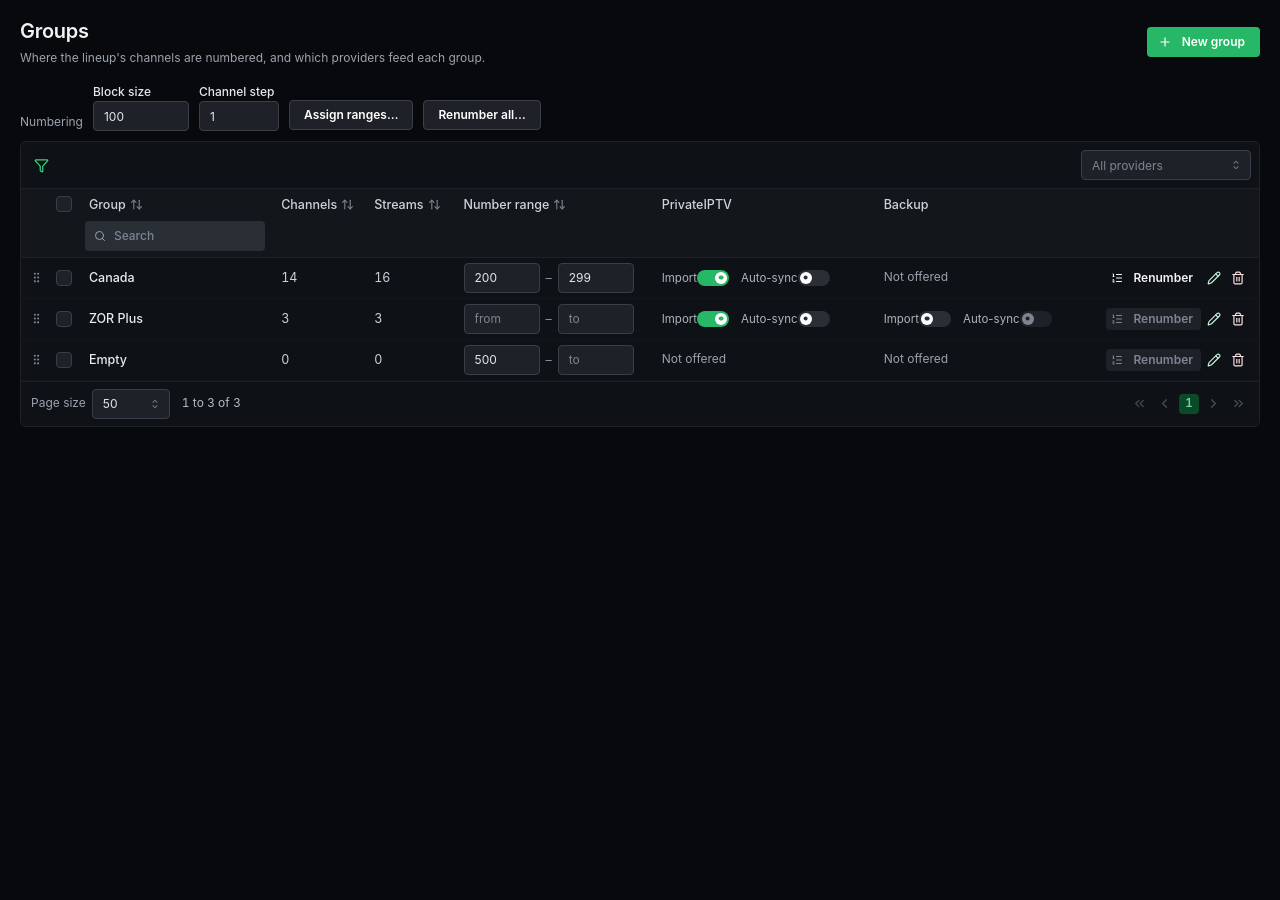
Scenario: the editor › refuses an end below the start before asking the server
Click the button named "Edit Canada". click: click(1214, 278)
box: [1203, 267, 1225, 289]
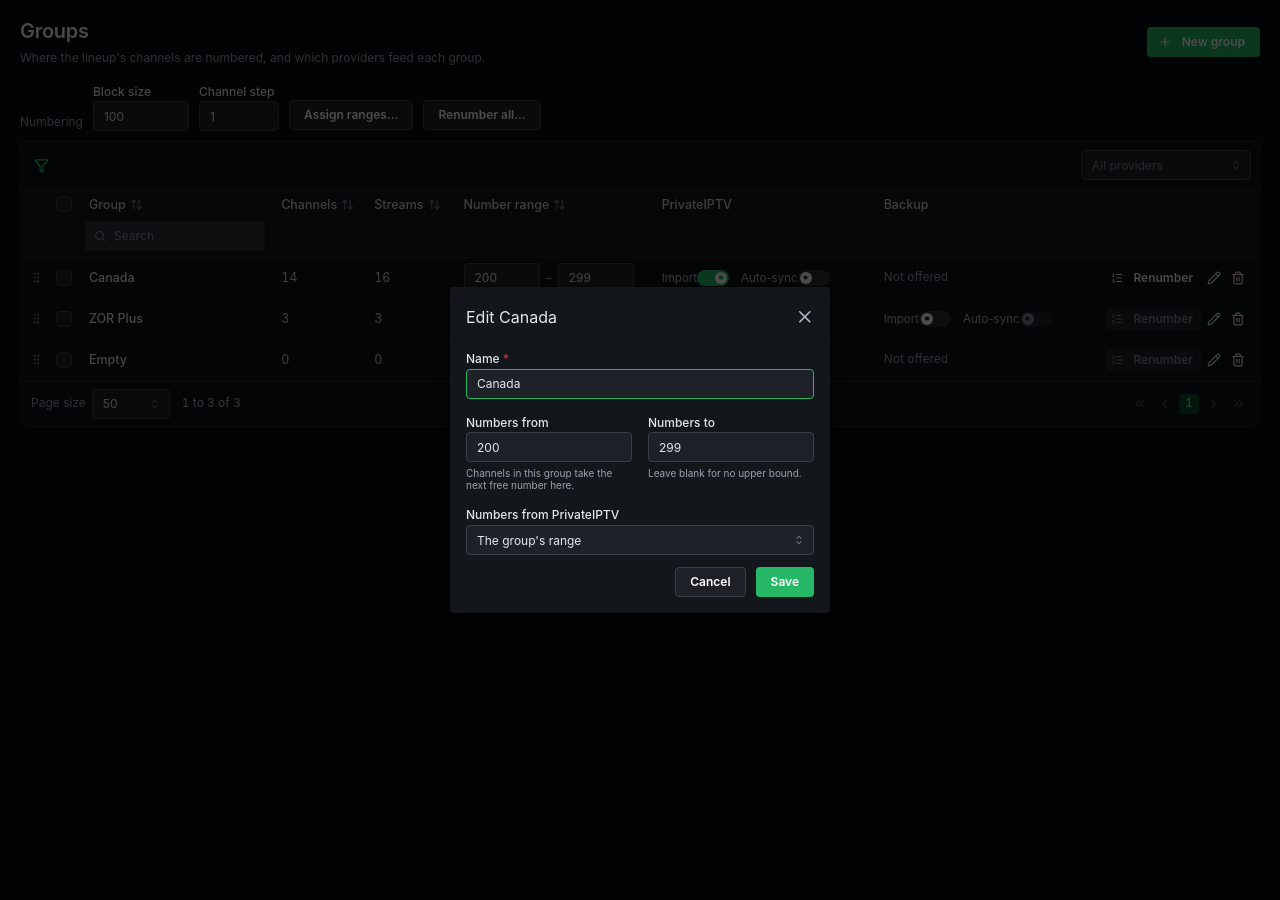
Replace the text in the field labelled "Numbers to" with "150". click: (731, 447)
box: [648, 432, 814, 462]
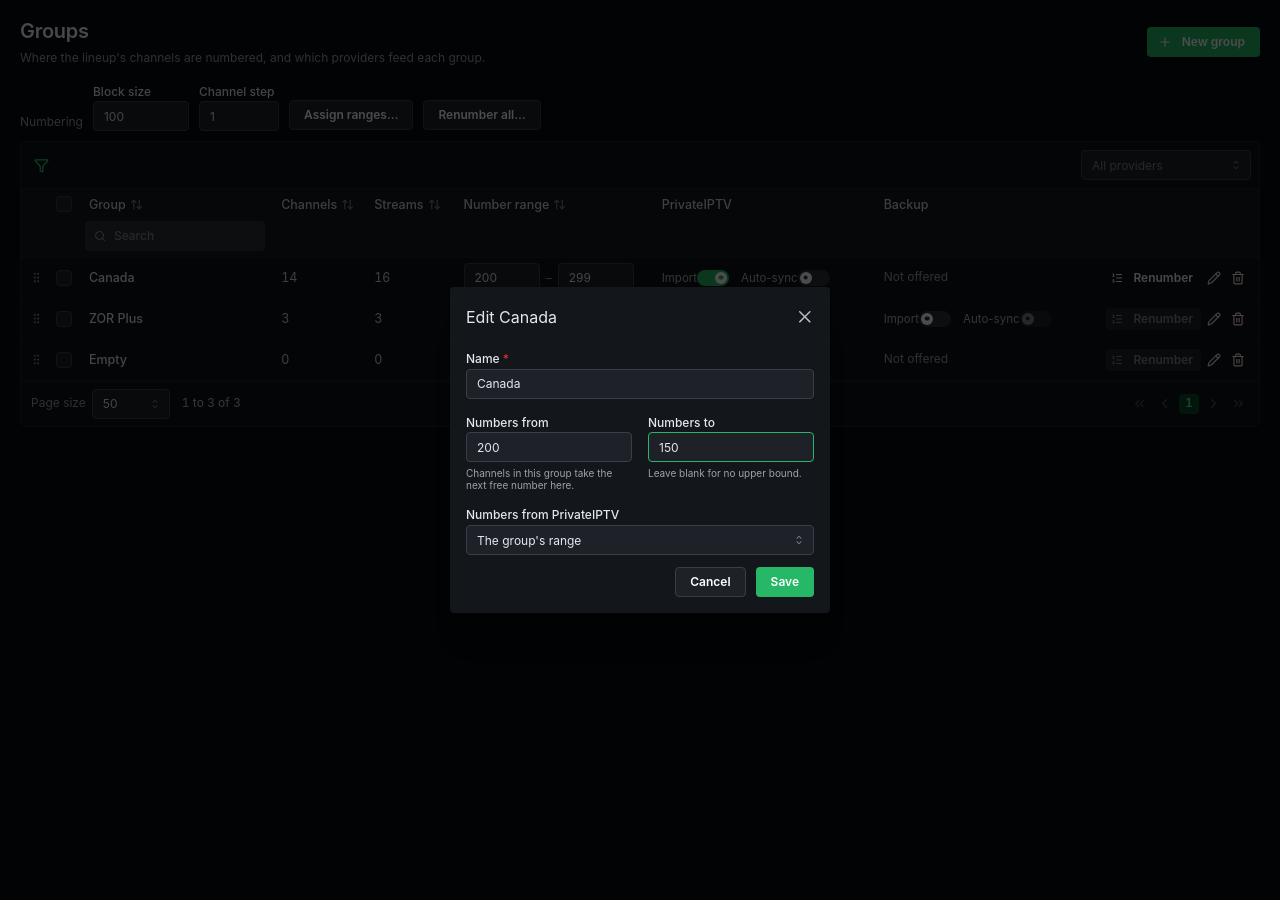
Click the button "Save". click: click(785, 582)
box: [756, 567, 814, 597]
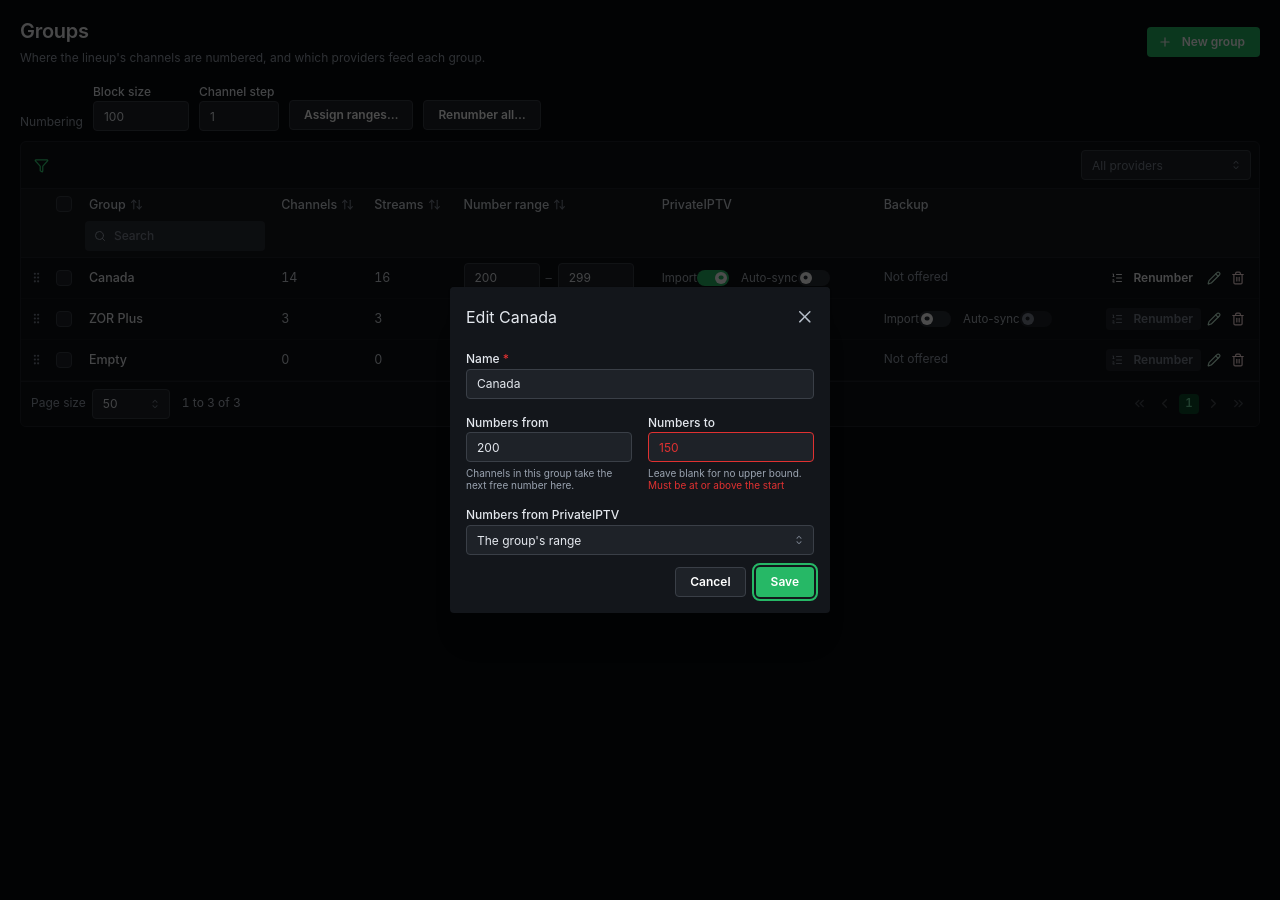
Expected: the text "Must be at or above the start" is shown, [648, 479, 784, 491]
